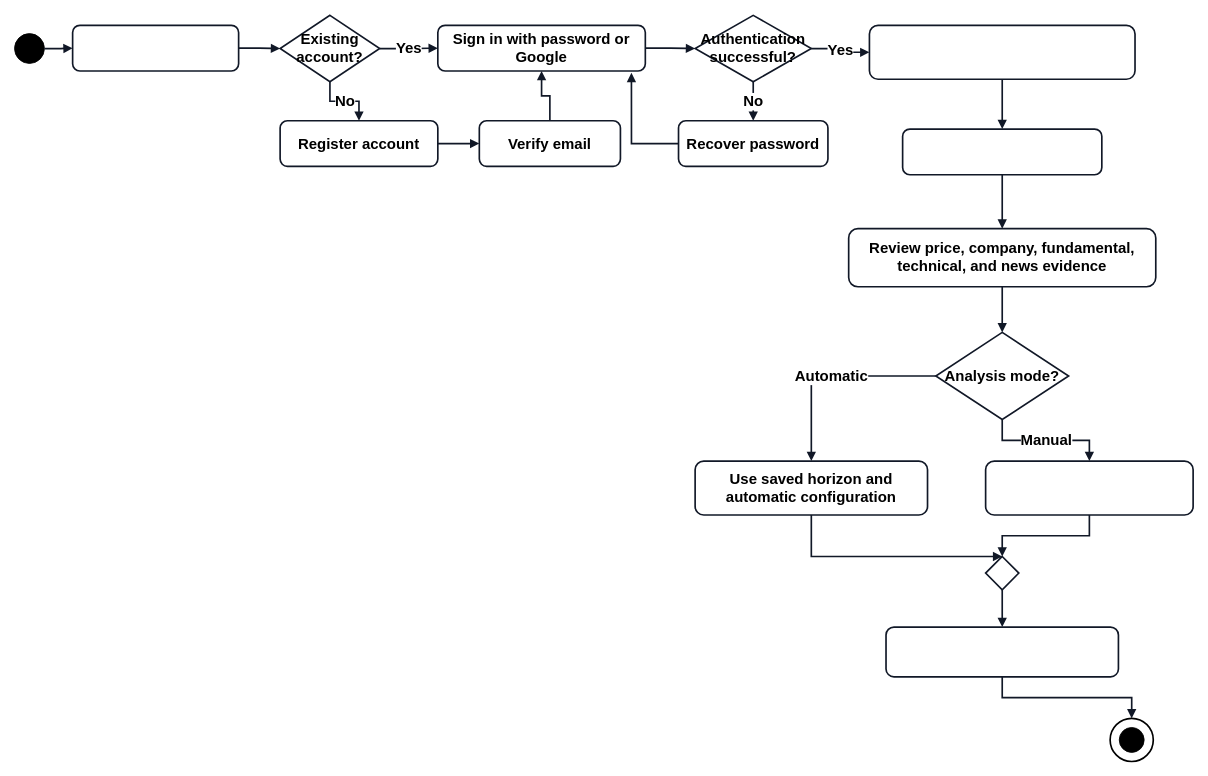
The diagram is 1208 pixels wide and 776 high, and some of its shapes have lost their labels. The box of each missing label's shape, as (x1, y1, x2, y2) in pixels:
Complete onboarding: (71, 24, 239, 71)
Discover a stock through market, search, news, or watchlist: (868, 24, 1135, 80)
Open stock details: (901, 128, 1102, 175)
Select evidence sources and weights: (984, 460, 1194, 515)
Submit analysis request: (885, 626, 1119, 677)
